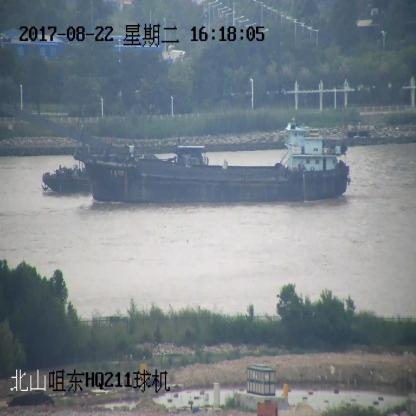Bulk Carrier: (0, 103, 350, 203), (42, 145, 210, 194)
